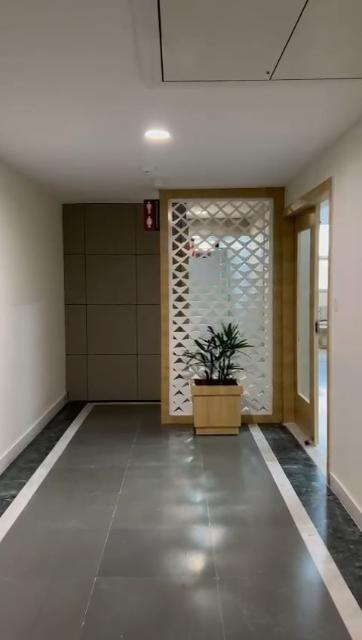door: (280, 204, 322, 446)
floor: (0, 396, 362, 640)
object: (191, 308, 251, 428)
wall: (0, 154, 68, 464), (330, 142, 362, 482)
